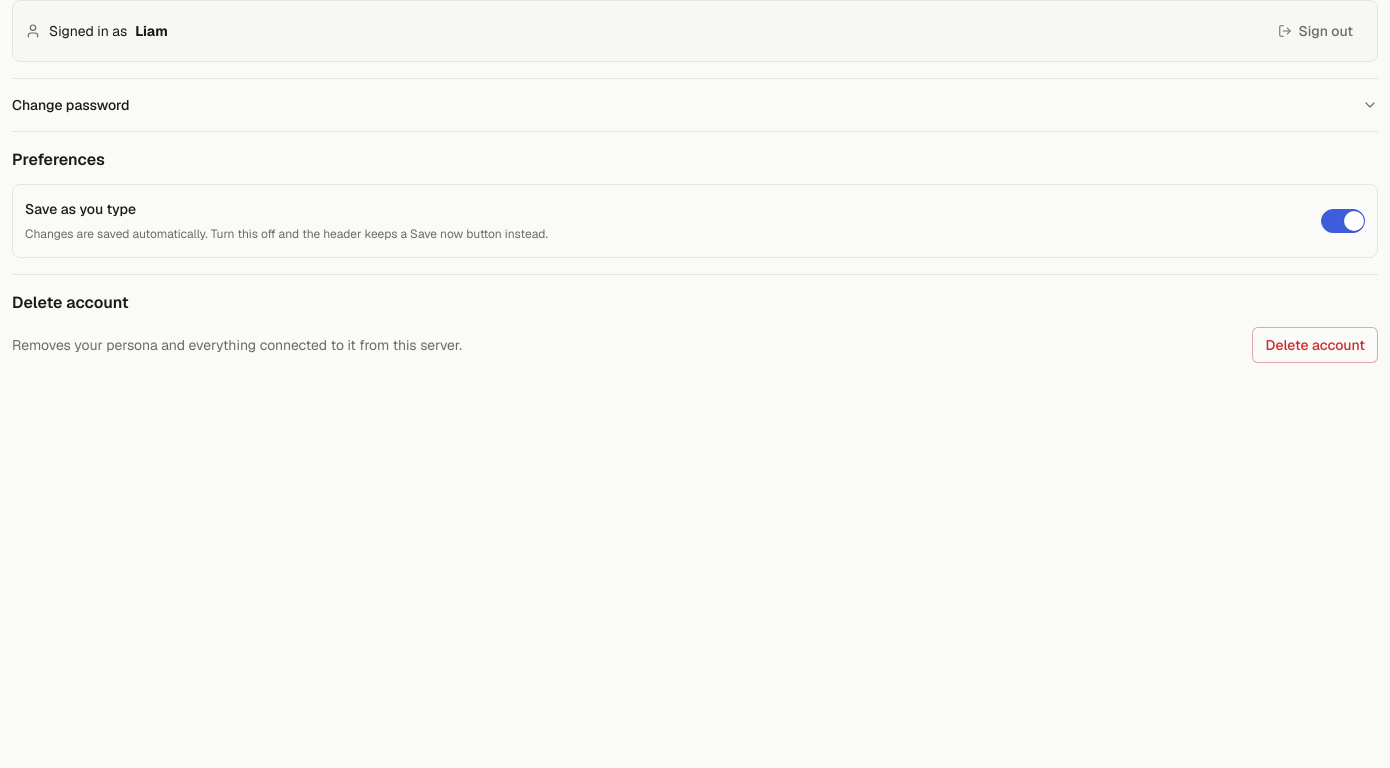
Scenario: changing the password › refuses one shorter than eight characters
Click the button "Change password" at (71, 105), box [12,95,1378,115]
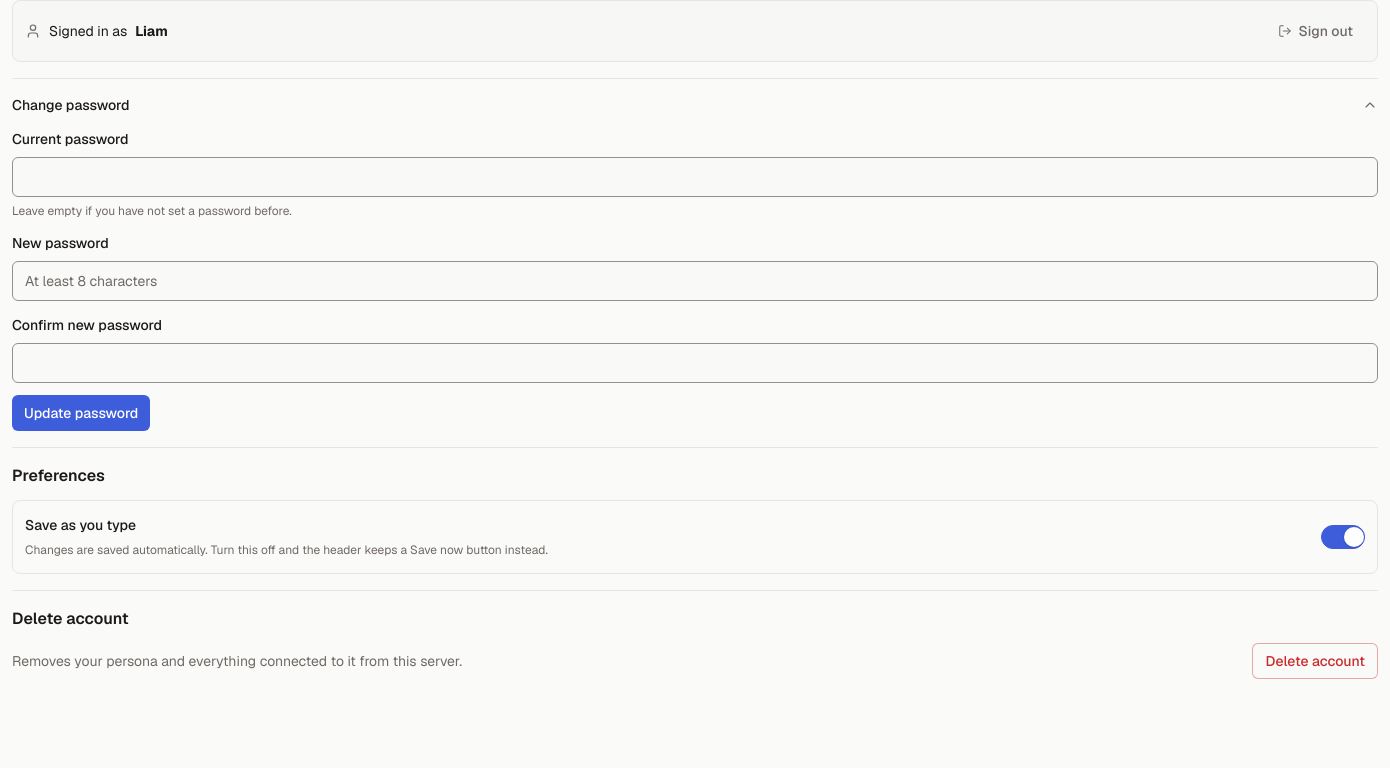
Type "short" into the password field labelled "New password" at (695, 281), box [12,261,1378,301]
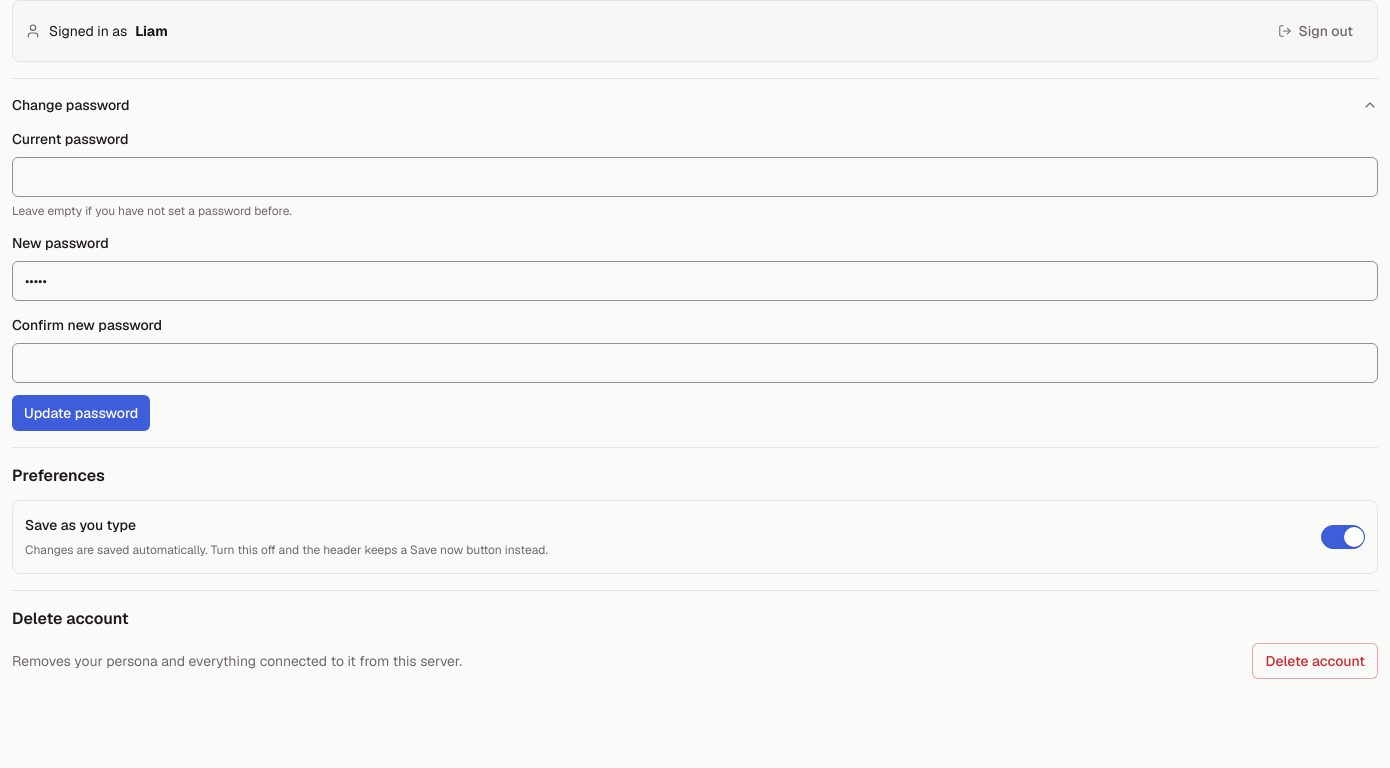
Type "short" into the password field labelled "Confirm new password" at (695, 363), box [12,343,1378,383]
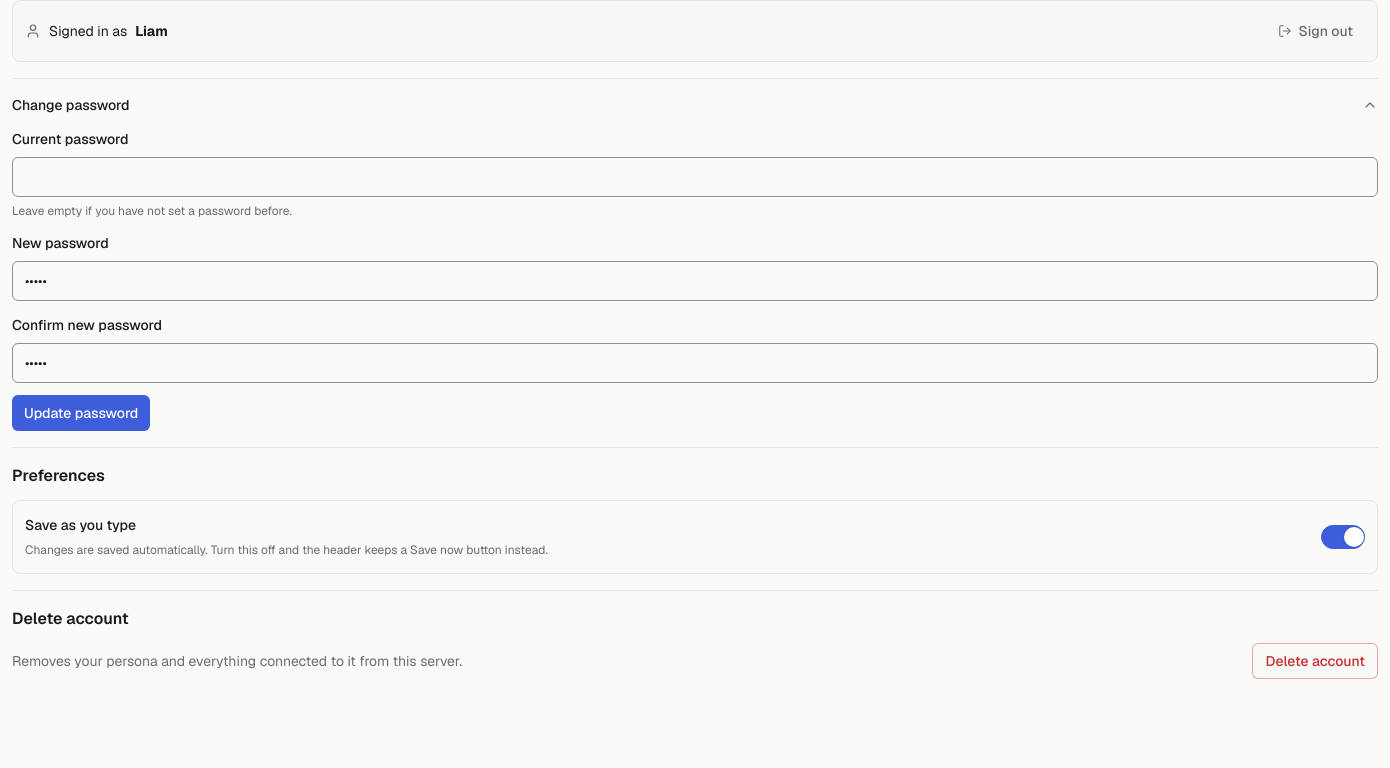
Click the button "Update password" at (81, 413), box [12,395,150,431]
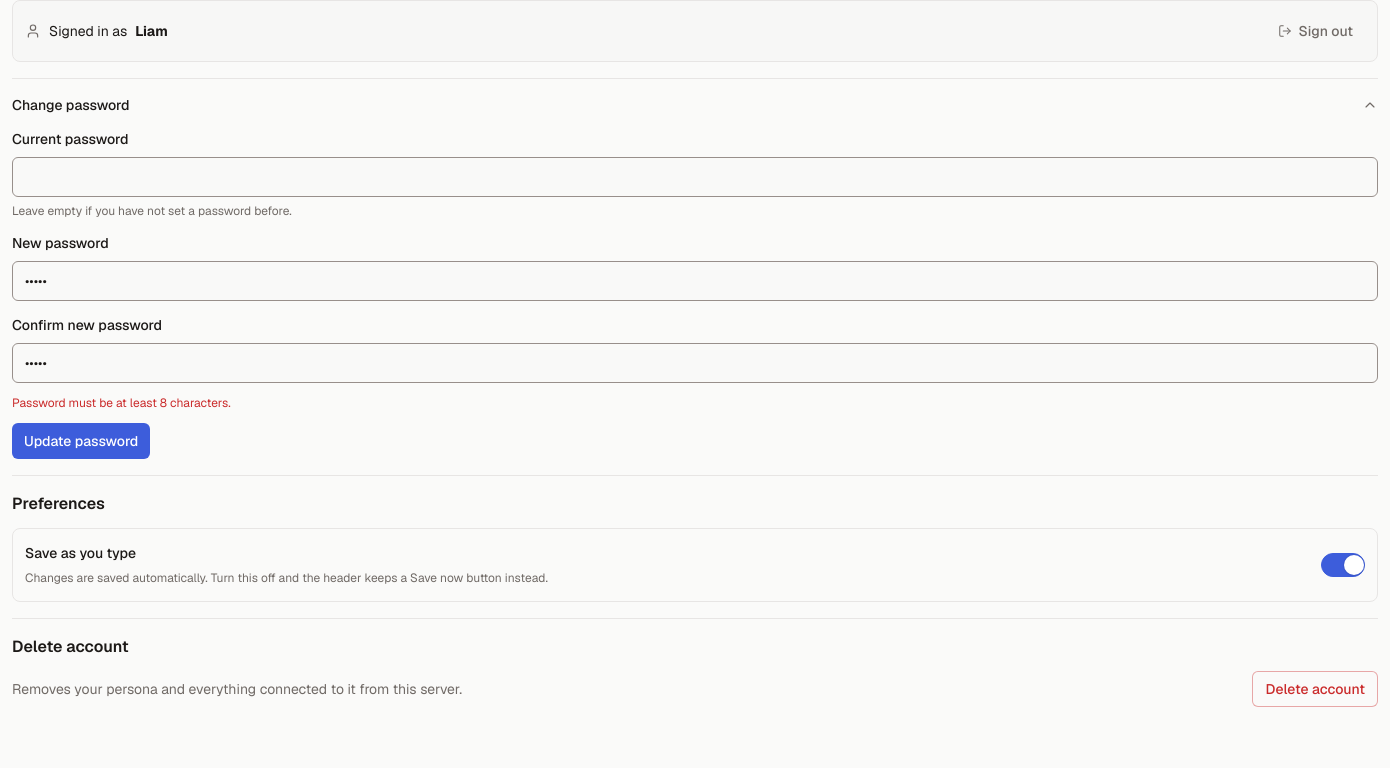
Now the text "Password must be at least 8 characters." is shown, box [12,395,231,411]
